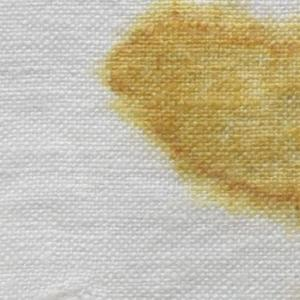Oil Stain: (90, 1, 300, 232)
